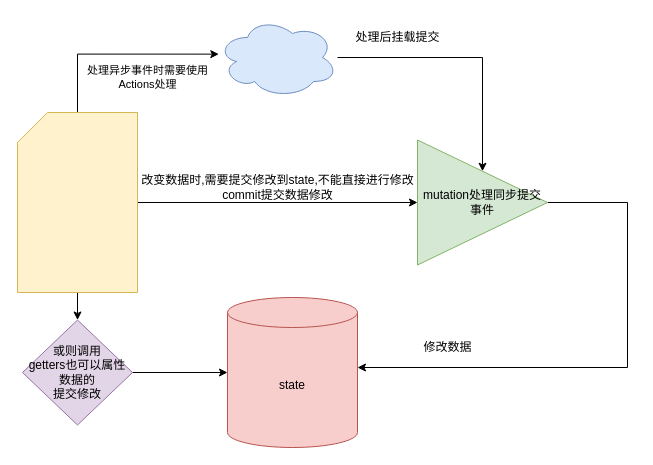
This 653x465 diagram has some shape labels left out. The shapes that lost their labels are listed below. From the top down, each one's centre as x and y in pixels, then its label:
the point at 277,57: Actions 处理异步提交数据
the point at 77,202: vue实例
